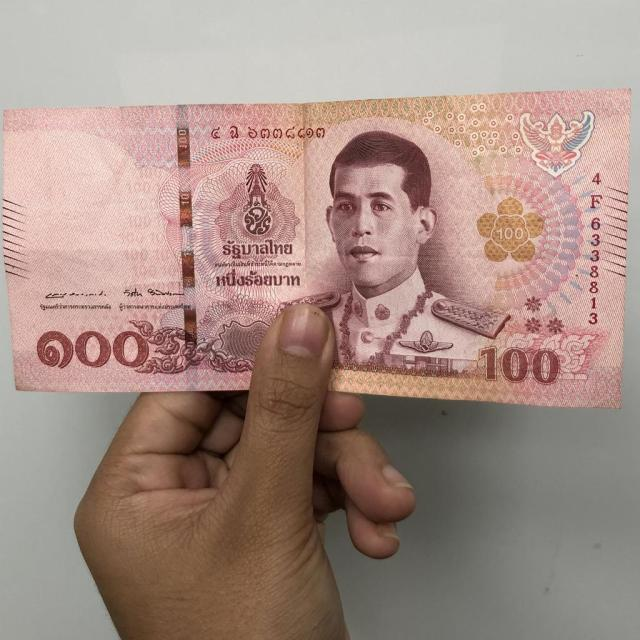THAI100: (2, 89, 630, 407)
